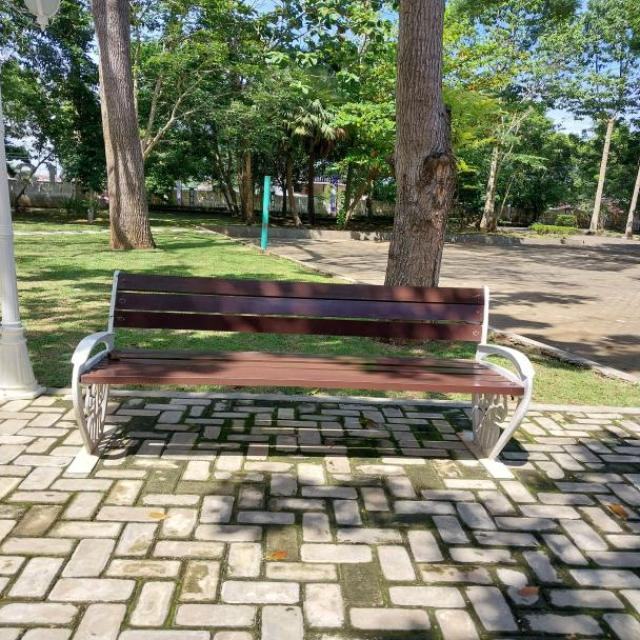bench ahead at: (69, 266, 540, 482)
